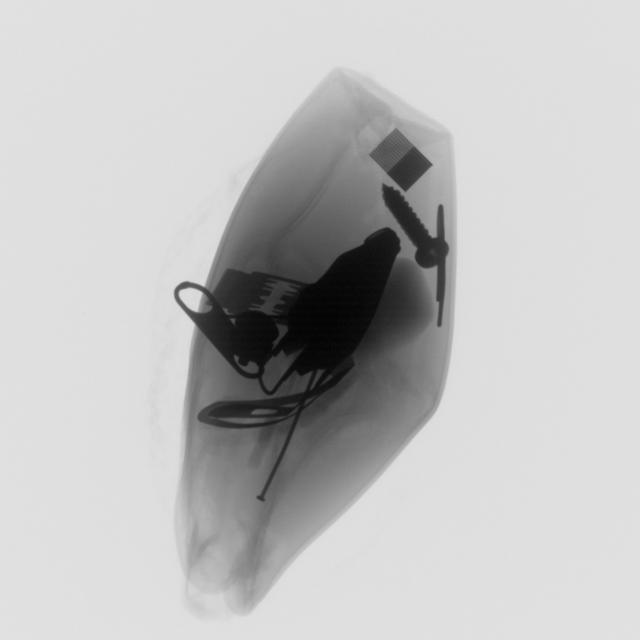razor: (213, 266, 314, 329)
snail: (251, 366, 323, 507), (379, 178, 451, 272)
